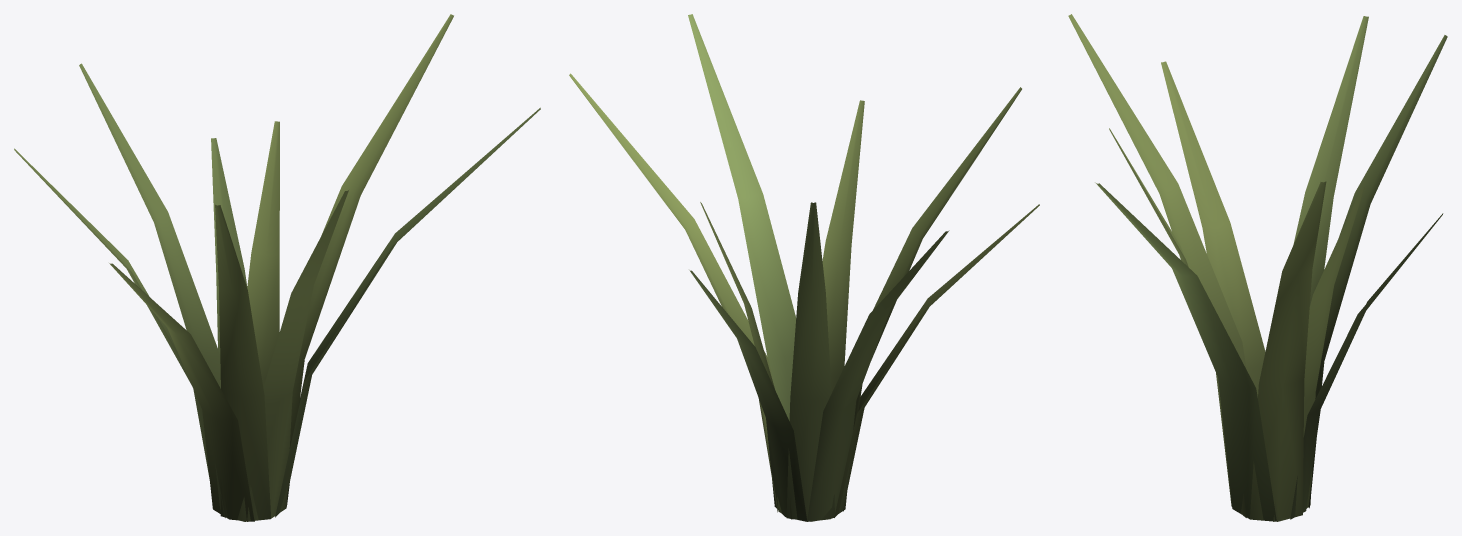
Rendered from PB_DuneGrass.glb.
The picture shows the model from 3 angles, left to right: view 1: azimuth 30°, elevation 25°; view 2: azimuth 150°, elevation 25°; view 3: azimuth 270°, elevation 25°; orthographic projection. The views are drawn at different scales.
Parts seen in each view (by area): view 1: PB_DuneGrass_1_SmoothPlastic; view 2: PB_DuneGrass_1_SmoothPlastic; view 3: PB_DuneGrass_1_SmoothPlastic.
Part boxes in pixels (x1,y1,x2,y2): PB_DuneGrass_1_SmoothPlastic: (14, 14, 540, 521); PB_DuneGrass_1_SmoothPlastic: (569, 14, 1039, 521); PB_DuneGrass_1_SmoothPlastic: (1068, 14, 1447, 521).
Bounding box in the file's own units: 2.65 × 2.53 × 1.97.
